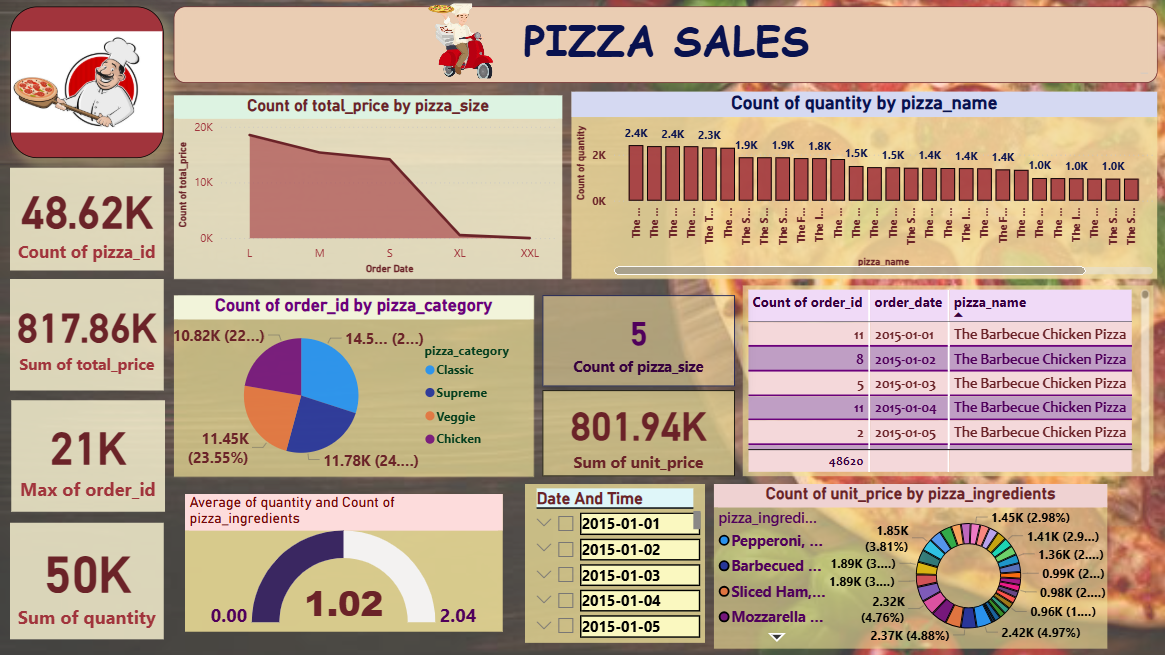

The page's visual inventory and layout, read from the dashboard file:
{"tool":"powerbi","page":{"name":"Page 1","canvas":[1280,720],"ordinal":0},"visuals":[{"type":"image","box":[11,8.2,168.8,166],"z":0},{"type":"textbox","title":"PIZZA SALES ","box":[190.7,8.2,1079.9,83.7],"z":1000},{"type":"card","fields":{"Values":["CountNonNull(pizza pizza_sales.pizza_id)"]},"box":[11,185.2,168.8,112.5],"z":2000},{"type":"card","fields":{"Values":["Sum(pizza pizza_sales.total_price)"]},"box":[11,307.4,168.8,122.1],"z":3000},{"type":"card","fields":{"Values":["Max(pizza pizza_sales.order_id)"]},"box":[12.3,440.5,168.8,122.1],"z":4000},{"type":"card","fields":{"Values":["Sum(pizza pizza_sales.quantity)"]},"box":[11,575,168.8,127.6],"z":5000},{"type":"stackedAreaChart","fields":{"Y":["CountNonNull(pizza pizza_sales.total_price)"],"Category":["pizza pizza_sales.pizza_size"]},"box":[190.7,105.7,426.8,201.7],"z":6000},{"type":"pieChart","fields":{"Y":["CountNonNull(pizza pizza_sales.order_id)"],"Category":["pizza pizza_sales.pizza_category"]},"box":[190.7,325.2,395.2,199],"z":7000},{"type":"tableEx","fields":{"Values":["CountNonNull(pizza pizza_sales.order_id)","pizza pizza_sales.order_date","pizza pizza_sales.pizza_name"]},"box":[815.1,314.2,451.5,209.9],"z":8000},{"type":"clusteredColumnChart","fields":{"Category":["pizza pizza_sales.pizza_name"],"Y":["CountNonNull(pizza pizza_sales.quantity)"]},"box":[627.1,101.5,643.6,205.8],"z":9000},{"type":"card","fields":{"Values":["Count(pizza pizza_sales.pizza_size)"]},"box":[595.5,325.2,211.3,100.2],"z":10000},{"type":"donutChart","fields":{"Y":["CountNonNull(pizza pizza_sales.unit_price)"],"Category":["pizza pizza_sales.pizza_ingredients"]},"box":[815.1,532.4,432.2,181.1],"z":11000},{"type":"card","fields":{"Values":["Sum(pizza pizza_sales.unit_price)"]},"box":[595.5,429.5,211.3,94.7],"z":12000},{"type":"image","box":[417.2,4.1,159.2,91.9],"z":13000},{"type":"slicer","fields":{"Values":["pizza pizza_sales.order_date","pizza pizza_sales.order_time"]},"box":[576.3,532.4,197.6,174.3],"z":14000},{"type":"gauge","fields":{"Y":["Avg(pizza pizza_sales.quantity)"]},"box":[203.1,543.4,348.5,150.9],"z":15000}]}

Visuals, with their boxes in screenshot pixels (x1, y1, x2, y2), scaled from the page's 1280x720 canvas onto the 1165x655 screenshot:
image: {"left": 10, "top": 7, "right": 164, "bottom": 158}
"PIZZA SALES " textbox: {"left": 174, "top": 7, "right": 1156, "bottom": 84}
card - CountNonNull(pizza pizza_sales.pizza_id): {"left": 10, "top": 168, "right": 164, "bottom": 271}
card - Sum(pizza pizza_sales.total_price): {"left": 10, "top": 280, "right": 164, "bottom": 391}
card - Max(pizza pizza_sales.order_id): {"left": 11, "top": 401, "right": 165, "bottom": 512}
card - Sum(pizza pizza_sales.quantity): {"left": 10, "top": 523, "right": 164, "bottom": 639}
stackedAreaChart - CountNonNull(pizza pizza_sales.total_price) x pizza pizza_sales.pizza_size: {"left": 174, "top": 96, "right": 562, "bottom": 280}
pieChart - CountNonNull(pizza pizza_sales.order_id) x pizza pizza_sales.pizza_category: {"left": 174, "top": 296, "right": 533, "bottom": 477}
tableEx - CountNonNull(pizza pizza_sales.order_id) x pizza pizza_sales.order_date: {"left": 742, "top": 286, "right": 1153, "bottom": 477}
clusteredColumnChart - pizza pizza_sales.pizza_name x CountNonNull(pizza pizza_sales.quantity): {"left": 571, "top": 92, "right": 1157, "bottom": 280}
card - Count(pizza pizza_sales.pizza_size): {"left": 542, "top": 296, "right": 734, "bottom": 387}
donutChart - CountNonNull(pizza pizza_sales.unit_price) x pizza pizza_sales.pizza_ingredients: {"left": 742, "top": 484, "right": 1135, "bottom": 649}
card - Sum(pizza pizza_sales.unit_price): {"left": 542, "top": 391, "right": 734, "bottom": 477}
image: {"left": 380, "top": 4, "right": 525, "bottom": 87}
slicer - pizza pizza_sales.order_date x pizza pizza_sales.order_time: {"left": 525, "top": 484, "right": 704, "bottom": 643}
gauge - Avg(pizza pizza_sales.quantity): {"left": 185, "top": 494, "right": 502, "bottom": 632}
